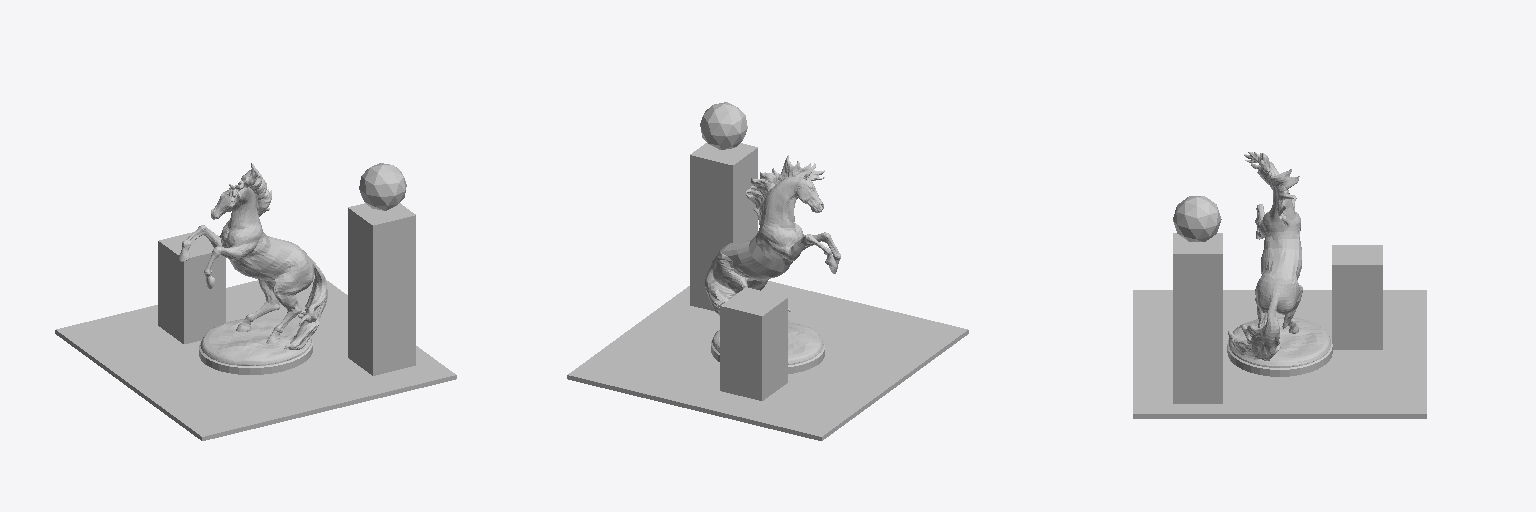
File: SceneH.obj
3 renders of one model, left to right at view 1: azimuth 30°, elevation 25°; view 2: azimuth 150°, elevation 25°; view 3: azimuth 270°, elevation 25°, orthographic.
Visible parts, largest first — view 1: Cube, horse_statue_01, Cube.001, Cube.002, Icosphere; view 2: Cube, horse_statue_01, Cube.001, Cube.002, Icosphere; view 3: Cube, horse_statue_01, Cube.001, Cube.002, Icosphere.
Part boxes in pixels (x1,y1,x2,y2): Cube: (55, 275, 456, 440); horse_statue_01: (178, 163, 327, 374); Cube.001: (348, 203, 415, 375); Cube.002: (158, 232, 225, 343); Icosphere: (359, 163, 406, 210); Cube: (567, 281, 968, 440); horse_statue_01: (705, 155, 840, 373); Cube.001: (690, 143, 757, 310); Cube.002: (720, 287, 787, 400); Icosphere: (700, 102, 747, 149); Cube: (1133, 290, 1426, 418); horse_statue_01: (1227, 152, 1332, 376); Cube.001: (1173, 233, 1222, 403); Cube.002: (1332, 245, 1382, 349); Icosphere: (1173, 196, 1221, 241).
Size of the model in its own units: 12 by 9.08 by 12.